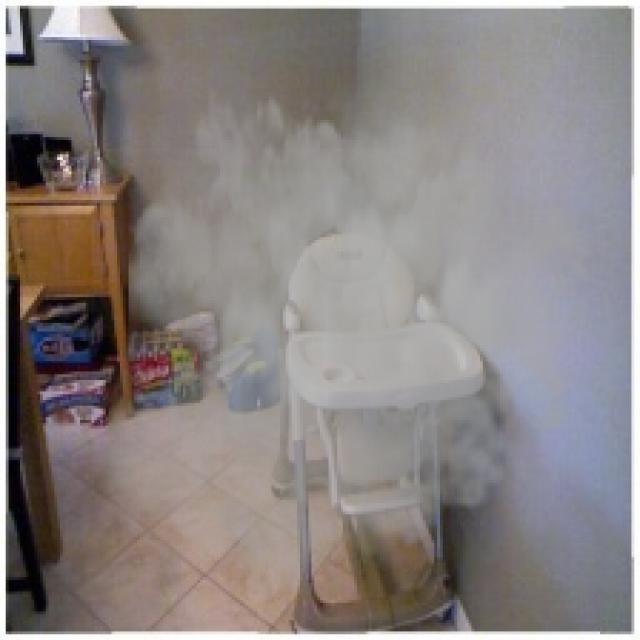smoke: (91, 51, 608, 612)
